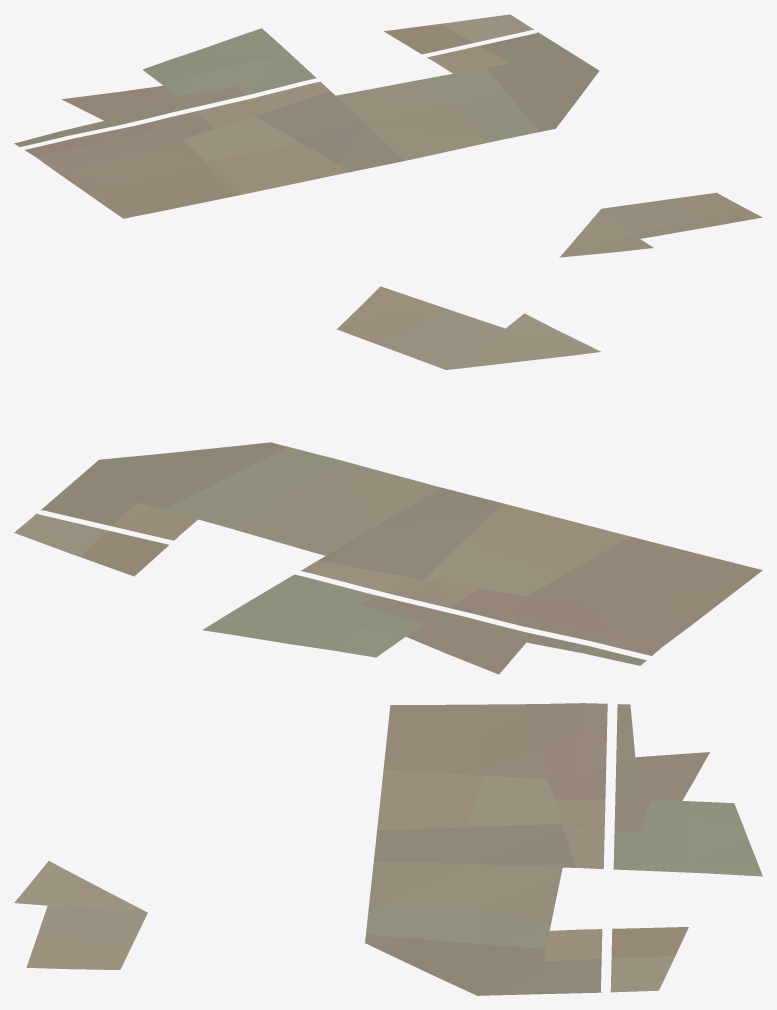
Rendered from farm_20_15_soil.glb.
3 renders of one model, top to bottom at view 1: azimuth 30°, elevation 25°; view 2: azimuth 150°, elevation 25°; view 3: azimuth 270°, elevation 25°, orthographic. The views are drawn at different scales.
Visible parts, largest first — view 1: geometry_0; view 2: geometry_0; view 3: geometry_0.
Part boxes in pixels (x1=…): geometry_0: x1=14, y1=14, x2=762, y2=257; geometry_0: x1=14, y1=286, x2=762, y2=674; geometry_0: x1=14, y1=703, x2=762, y2=995.
Size of the model in its own units: 523 by 8.79 by 578.
